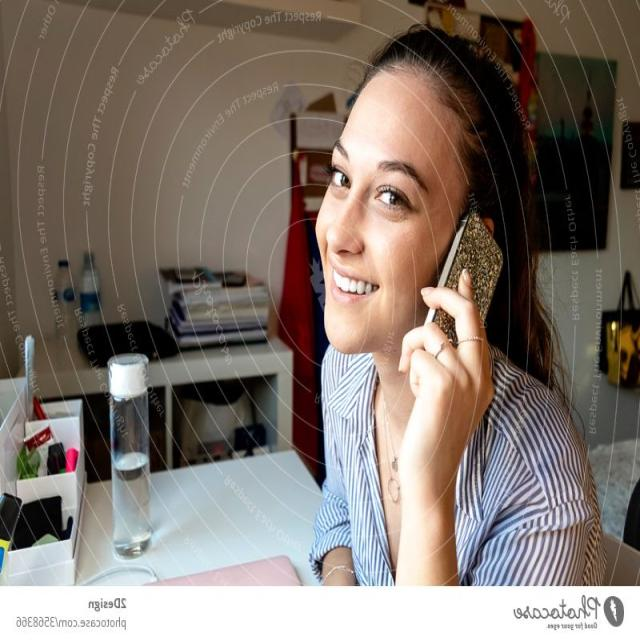phone: (429, 208, 506, 338)
